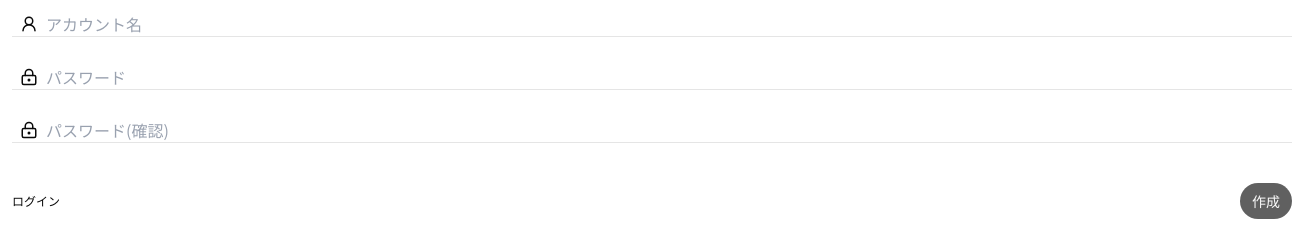
Test case: Auth/Organisms/SignupForm › shows error when required fields are empty
This screenshot has width=1304, height=236.
Click the button. click: [1266, 201]
box: [1240,183,1292,219]
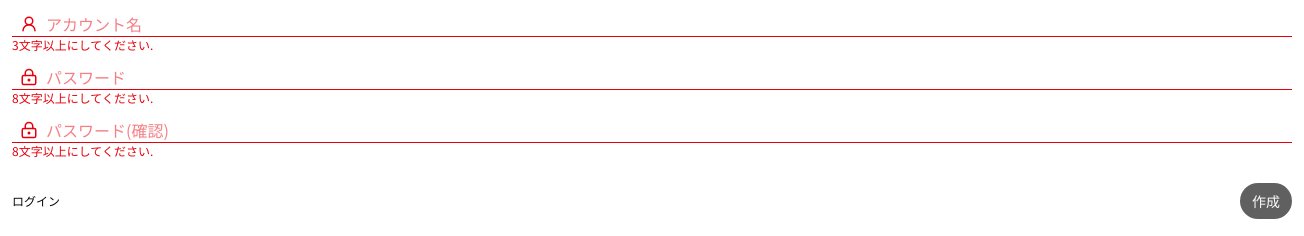
expect the text "3文字以上にしてください." is shown: met, box [12,36,153,53]
expect the text "8文字以上にしてください." is shown 2 times: met, box [12,89,153,106]; [12,142,153,159]
